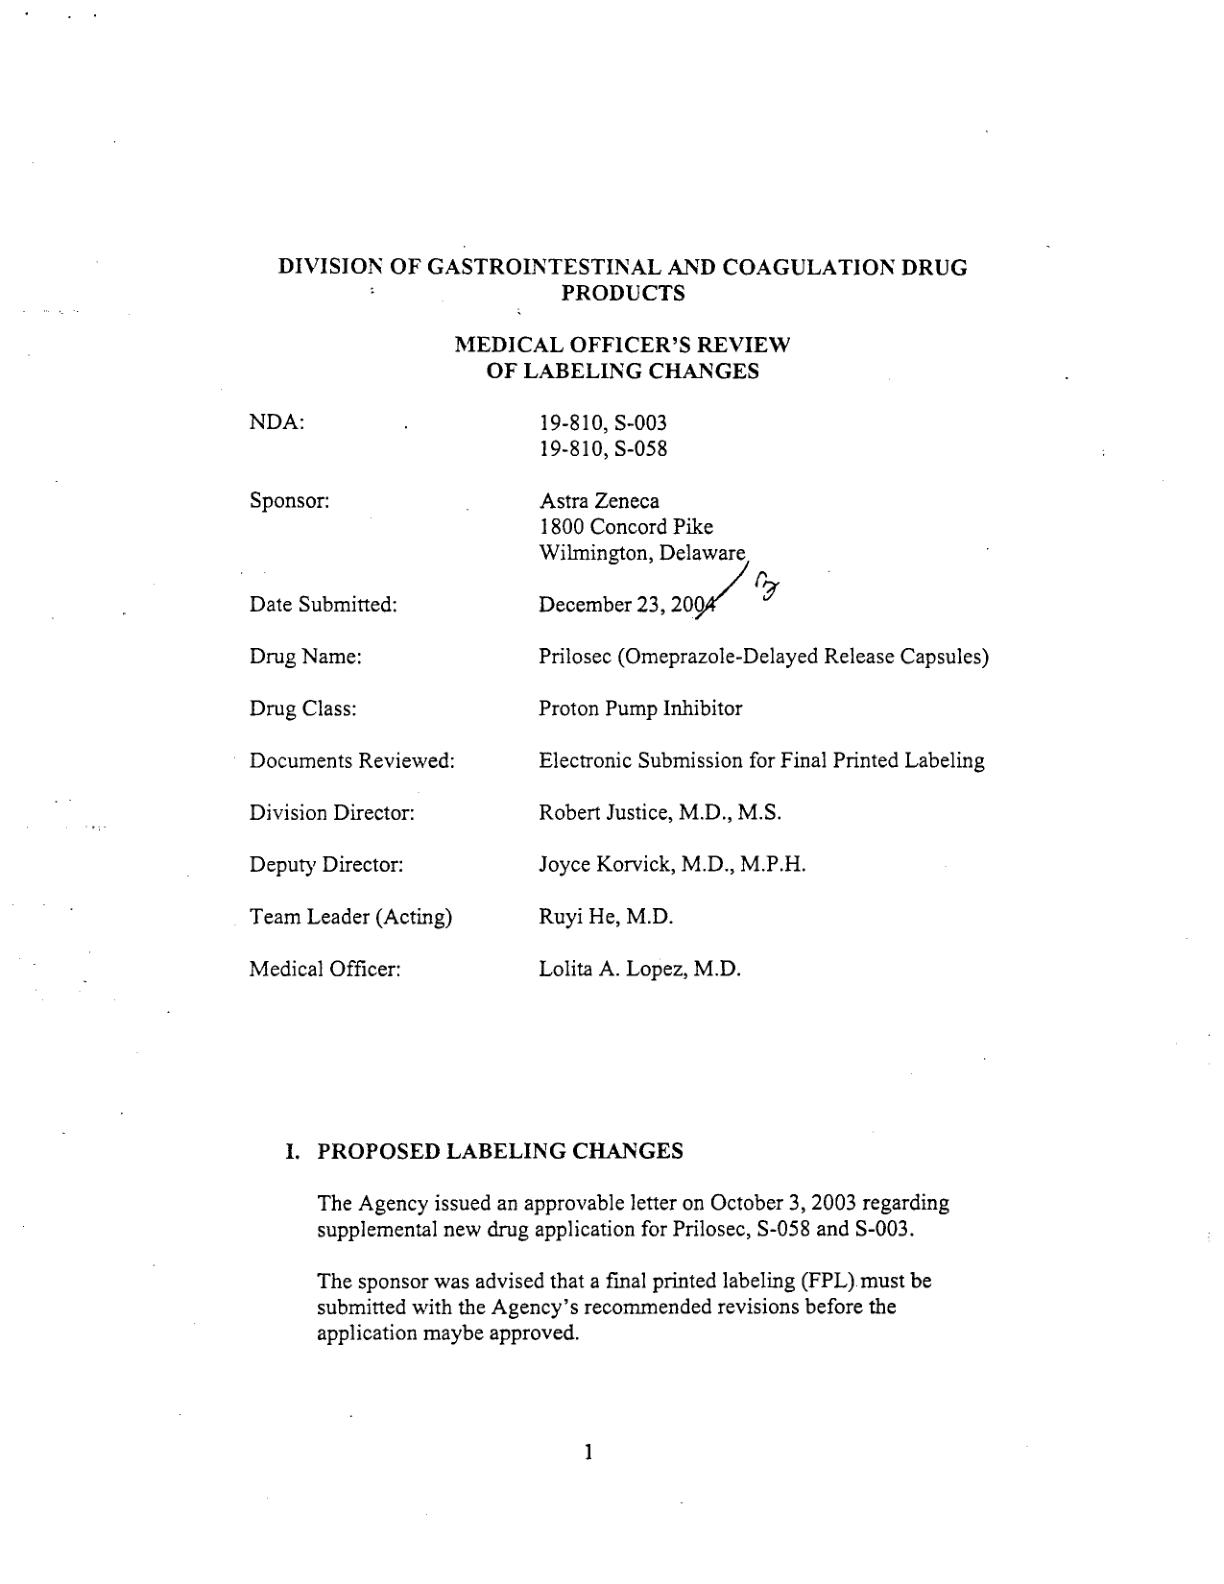nolines: (246, 408, 993, 984)
